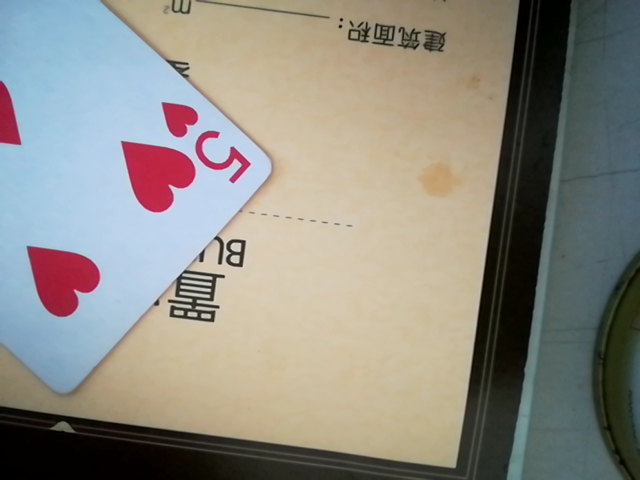hx 5: (0, 0, 278, 400)
